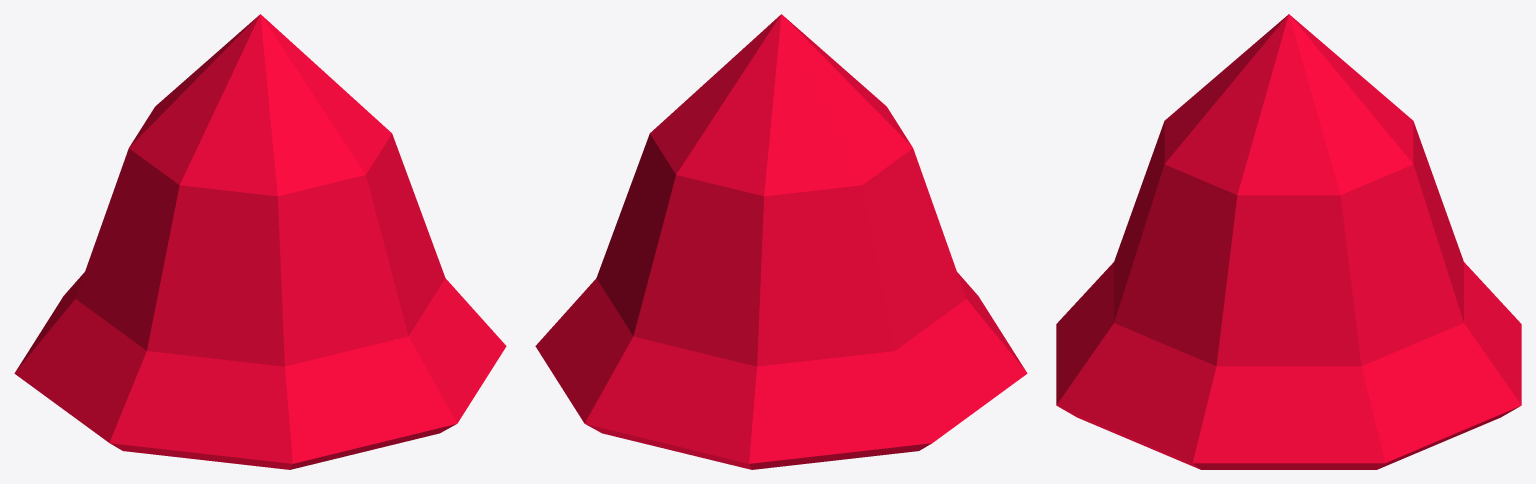
File: red-hat.gltf
The picture shows the model from 3 angles, left to right: view 1: azimuth 30°, elevation 25°; view 2: azimuth 150°, elevation 25°; view 3: azimuth 270°, elevation 25°; orthographic projection.
Parts seen in each view (by area): view 1: red; view 2: red; view 3: red.
Boxes of the visible parts, box(x1,y1,x2,y2) form: red: box(14, 14, 506, 469); red: box(535, 14, 1027, 469); red: box(1056, 14, 1521, 469).
Size of the model in its own units: 0.2058 by 0.1789 by 0.2058.
Materials: 1 (1 with a texture image).
